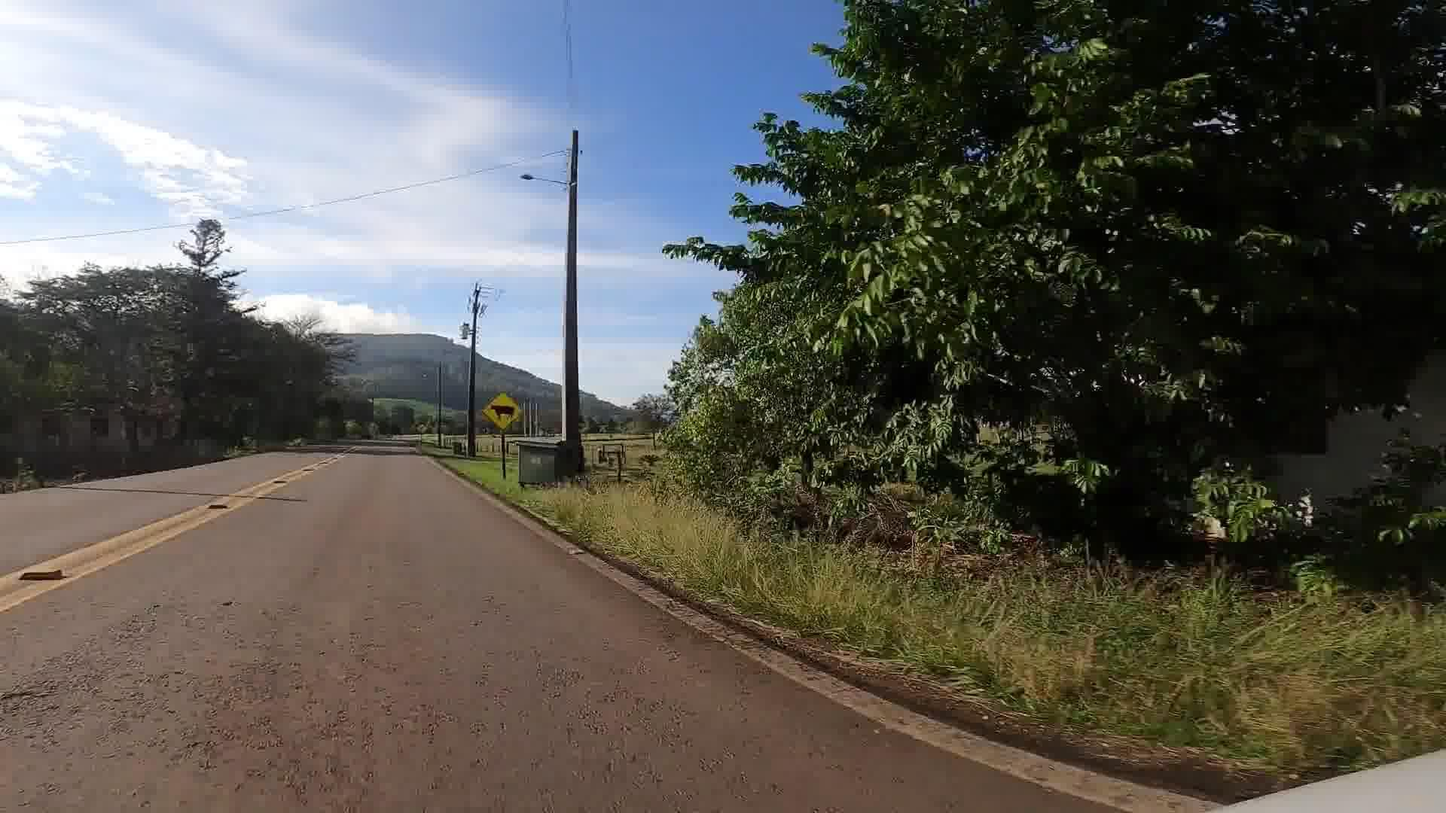A-35: (480, 389, 526, 434)
